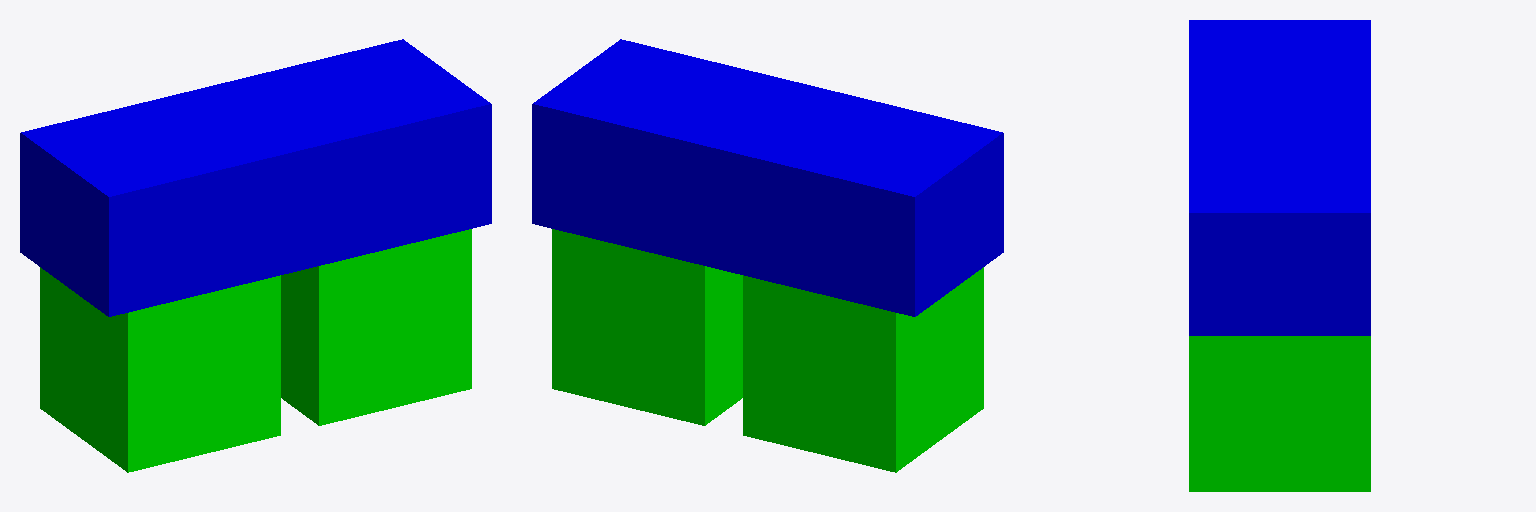
URDF robot description (robot):
<robot name = "robot">
    <link name="root">
        <inertial>
            <origin xyz="0.0 0.0 1.5" rpy="0 0 0"/>
            <mass value="1" />
            <inertia ixx="100" ixy="0" ixz="0" iyy="100" iyz="0" izz="100" />
        </inertial>
        <visual>
            <origin xyz="0.0 0.0 1.5" rpy="0 0 0"/>
            <geometry>
                <box size="0 0 0.0001" />
            </geometry>
            <material name="Green">
                <color rgba="0 1.0 0.0 1.0"/>
            </material>
        </visual>
        <collision>
            <origin xyz="0.0 0.0 1.5" rpy="0 0 0"/>
            <geometry>
                <box size="0 0 0.0001" />
            </geometry>
        </collision>
    </link>
    <joint name="root_000" type="revolute">
       <parent link="root"/>
       <child  link="000"/>
       <origin rpy="0 0 0" xyz="0.0 0.0 1.5" />
     <axis xyz="1 0 0"/>
       <limit effort="0.0" lower="-3.14159" upper="3.14159" velocity="0.0"/>
    </joint>
    <link name="000">
        <inertial>
            <origin xyz="0.25 0.0 0.0" rpy="0 0 0"/>
            <mass value="1" />
            <inertia ixx="100" ixy="0" ixz="0" iyy="100" iyz="0" izz="100" />
        </inertial>
        <visual>
            <origin xyz="0.25 0.0 0.0" rpy="0 0 0"/>
            <geometry>
                <box size="0.5 0.4 0.3" />
            </geometry>
            <material name="Blue">
                <color rgba="0 0.0 1.0 1.0"/>
            </material>
        </visual>
        <collision>
            <origin xyz="0.25 0.0 0.0" rpy="0 0 0"/>
            <geometry>
                <box size="0.5 0.4 0.3" />
            </geometry>
        </collision>
    </link>
    <joint name="000_010" type="revolute">
       <parent link="000"/>
       <child  link="010"/>
       <origin rpy="0 0 0" xyz="0.5 0.0 -0.0" />
     <axis xyz="1 0 0"/>
       <limit effort="0.0" lower="-3.14159" upper="3.14159" velocity="0.0"/>
    </joint>
    <link name="010">
        <inertial>
            <origin xyz="0.25 0.0 -0.0" rpy="0 0 0"/>
            <mass value="1" />
            <inertia ixx="100" ixy="0" ixz="0" iyy="100" iyz="0" izz="100" />
        </inertial>
        <visual>
            <origin xyz="0.25 0.0 -0.0" rpy="0 0 0"/>
            <geometry>
                <box size="0.5 0.4 0.3" />
            </geometry>
            <material name="Blue">
                <color rgba="0 0.0 1.0 1.0"/>
            </material>
        </visual>
        <collision>
            <origin xyz="0.25 0.0 -0.0" rpy="0 0 0"/>
            <geometry>
                <box size="0.5 0.4 0.3" />
            </geometry>
        </collision>
    </link>
    <joint name="010_010-100" type="revolute">
       <parent link="010"/>
       <child  link="010-100"/>
       <origin rpy="0 0 0" xyz="0.25 0.0 -0.15" />
     <axis xyz="0 0 1"/>
       <limit effort="0.0" lower="-3.14159" upper="3.14159" velocity="0.0"/>
    </joint>
    <link name="010-100">
        <inertial>
            <origin xyz="0.0 0.0 -0.1" rpy="0 0 0"/>
            <mass value="1" />
            <inertia ixx="100" ixy="0" ixz="0" iyy="100" iyz="0" izz="100" />
        </inertial>
        <visual>
            <origin xyz="0.0 0.0 -0.1" rpy="0 0 0"/>
            <geometry>
                <box size="0.4 0.4 0.2" />
            </geometry>
            <material name="Green">
                <color rgba="0 1.0 0.0 1.0"/>
            </material>
        </visual>
        <collision>
            <origin xyz="0.0 0.0 -0.1" rpy="0 0 0"/>
            <geometry>
                <box size="0.4 0.4 0.2" />
            </geometry>
        </collision>
    </link>
    <joint name="010-100_010-110" type="revolute">
       <parent link="010-100"/>
       <child  link="010-110"/>
       <origin rpy="0 0 0" xyz="0.0 0.0 -0.2" />
     <axis xyz="0 0 1"/>
       <limit effort="0.0" lower="-3.14159" upper="3.14159" velocity="0.0"/>
    </joint>
    <link name="010-110">
        <inertial>
            <origin xyz="0.0 0.0 -0.1" rpy="0 0 0"/>
            <mass value="1" />
            <inertia ixx="100" ixy="0" ixz="0" iyy="100" iyz="0" izz="100" />
        </inertial>
        <visual>
            <origin xyz="0.0 0.0 -0.1" rpy="0 0 0"/>
            <geometry>
                <box size="0.4 0.4 0.2" />
            </geometry>
            <material name="Green">
                <color rgba="0 1.0 0.0 1.0"/>
            </material>
        </visual>
        <collision>
            <origin xyz="0.0 0.0 -0.1" rpy="0 0 0"/>
            <geometry>
                <box size="0.4 0.4 0.2" />
            </geometry>
        </collision>
    </link>
    <joint name="000_000-100" type="revolute">
       <parent link="000"/>
       <child  link="000-100"/>
       <origin rpy="0 0 0" xyz="0.25 0.0 -0.15" />
     <axis xyz="0 0 1"/>
       <limit effort="0.0" lower="-3.14159" upper="3.14159" velocity="0.0"/>
    </joint>
    <link name="000-100">
        <inertial>
            <origin xyz="0.0 0.0 -0.1" rpy="0 0 0"/>
            <mass value="1" />
            <inertia ixx="100" ixy="0" ixz="0" iyy="100" iyz="0" izz="100" />
        </inertial>
        <visual>
            <origin xyz="0.0 0.0 -0.1" rpy="0 0 0"/>
            <geometry>
                <box size="0.4 0.4 0.2" />
            </geometry>
            <material name="Green">
                <color rgba="0 1.0 0.0 1.0"/>
            </material>
        </visual>
        <collision>
            <origin xyz="0.0 0.0 -0.1" rpy="0 0 0"/>
            <geometry>
                <box size="0.4 0.4 0.2" />
            </geometry>
        </collision>
    </link>
    <joint name="000-100_000-110" type="revolute">
       <parent link="000-100"/>
       <child  link="000-110"/>
       <origin rpy="0 0 0" xyz="0.0 0.0 -0.2" />
     <axis xyz="0 0 1"/>
       <limit effort="0.0" lower="-3.14159" upper="3.14159" velocity="0.0"/>
    </joint>
    <link name="000-110">
        <inertial>
            <origin xyz="0.0 0.0 -0.1" rpy="0 0 0"/>
            <mass value="1" />
            <inertia ixx="100" ixy="0" ixz="0" iyy="100" iyz="0" izz="100" />
        </inertial>
        <visual>
            <origin xyz="0.0 0.0 -0.1" rpy="0 0 0"/>
            <geometry>
                <box size="0.4 0.4 0.2" />
            </geometry>
            <material name="Green">
                <color rgba="0 1.0 0.0 1.0"/>
            </material>
        </visual>
        <collision>
            <origin xyz="0.0 0.0 -0.1" rpy="0 0 0"/>
            <geometry>
                <box size="0.4 0.4 0.2" />
            </geometry>
        </collision>
    </link>
</robot>

--- What the picture shows (computed from the rendered views, not written in the file) ---
The picture shows the robot from 3 angles, left to right: view 1: azimuth 30°, elevation 25°; view 2: azimuth 150°, elevation 25°; view 3: azimuth 270°, elevation 25°; orthographic projection.
Model robot with 7 links and 6 joints (6 revolute), rooted at root, posed all joints at 0.
Links seen in each view (by area): view 1: 000, 010, 000-110, 000-100, 010-110, 010-100; view 2: 000, 010, 000-110, 000-100, 010-110, 010-100; view 3: 010, 000, 010-110, 010-100.
Boxes of the visible links, bbox=[...] form: 000: bbox=[20, 86, 299, 316]; 010: bbox=[213, 39, 491, 270]; 000-110: bbox=[40, 329, 280, 472]; 000-100: bbox=[40, 267, 280, 392]; 010-110: bbox=[281, 309, 471, 425]; 010-100: bbox=[281, 229, 471, 345]; 000: bbox=[724, 86, 1003, 316]; 010: bbox=[532, 39, 810, 270]; 000-110: bbox=[743, 329, 983, 472]; 000-100: bbox=[743, 267, 983, 392]; 010-110: bbox=[552, 309, 742, 425]; 010-100: bbox=[552, 229, 742, 345]; 010: bbox=[1189, 117, 1370, 335]; 000: bbox=[1189, 20, 1370, 116]; 010-110: bbox=[1189, 409, 1370, 491]; 010-100: bbox=[1189, 336, 1370, 408].
Size in the robot's own frame: 1 by 0.4 by 0.7 metres.
Geometry: primitives only (box / cylinder / sphere), no mesh files.